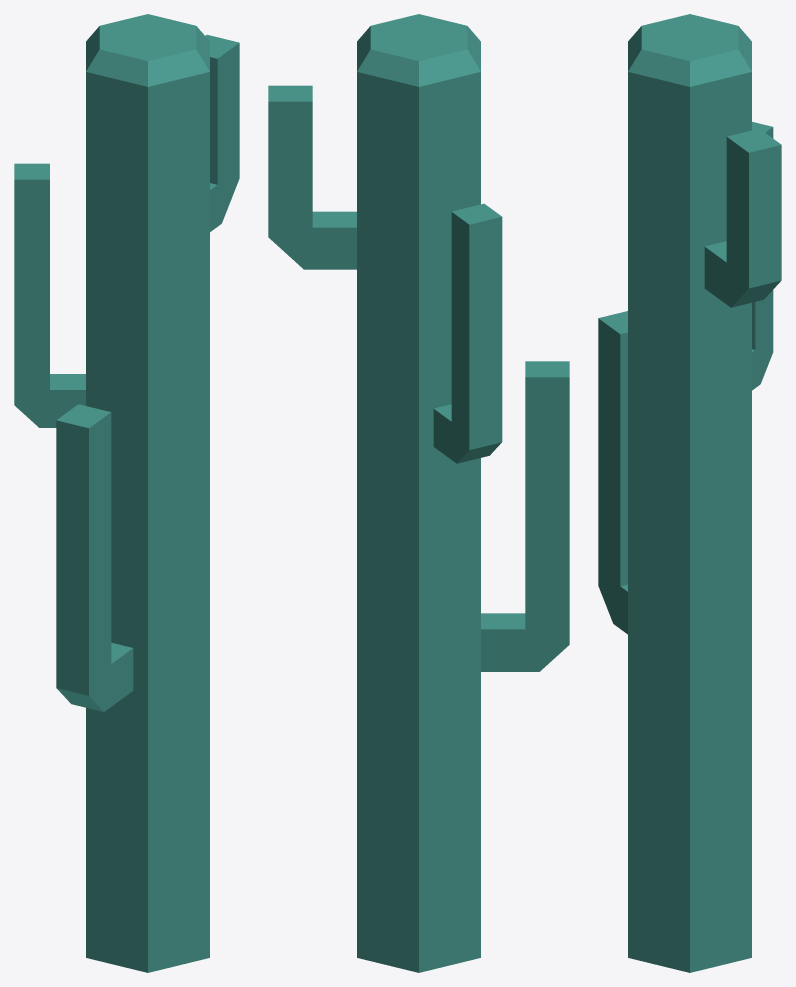
Rendered from cactus_tall.obj.
3 renders of one model, left to right at view 1: azimuth 30°, elevation 25°; view 2: azimuth 150°, elevation 25°; view 3: azimuth 270°, elevation 25°, orthographic.
Parts seen in each view (by area): view 1: cactus_tall; view 2: cactus_tall; view 3: cactus_tall.
Part boxes in pixels (bbox=[...]): cactus_tall: bbox=[14, 14, 239, 972]; cactus_tall: bbox=[268, 14, 569, 972]; cactus_tall: bbox=[598, 14, 781, 972].
Size of the model in its own units: 2.06 by 7.35 by 1.35.
